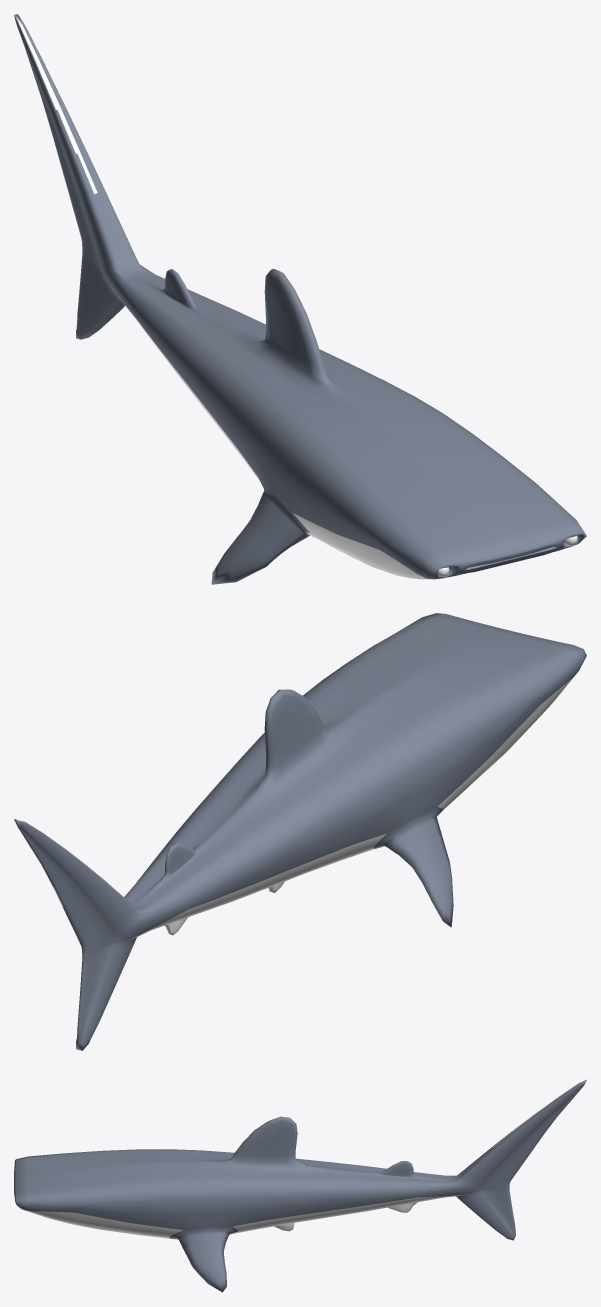
The model's file is Whark.gltf.
The picture shows the model from 3 angles, top to bottom: view 1: azimuth 30°, elevation 25°; view 2: azimuth 150°, elevation 25°; view 3: azimuth 270°, elevation 25°; orthographic projection. The views are drawn at different scales.
Visible parts, largest first — view 1: Cube_Cube.001-Mat (×2), Cube_Cube.001-Material.002; view 2: Cube_Cube.001-Mat (×2), Cube_Cube.001-Material.002; view 3: Cube_Cube.001-Mat (×2), Cube_Cube.001-Material.002.
Part boxes in pixels (left/top/right/bottom): Cube_Cube.001-Mat (×2): left=14, top=14, right=586, bottom=584; Cube_Cube.001-Material.002: left=14, top=14, right=554, bottom=579; Cube_Cube.001-Mat (×2): left=14, top=613, right=586, bottom=1050; Cube_Cube.001-Material.002: left=17, top=673, right=576, bottom=940; Cube_Cube.001-Mat (×2): left=14, top=1080, right=586, bottom=1292; Cube_Cube.001-Material.002: left=26, top=1079, right=586, bottom=1238.
Bounding box in the file's own units: 8.01 × 9.9 × 28.69.
